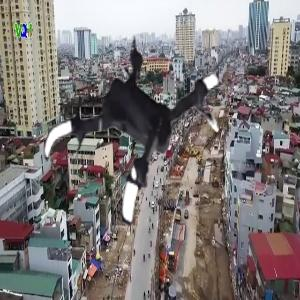drone: (36, 16, 249, 229)
